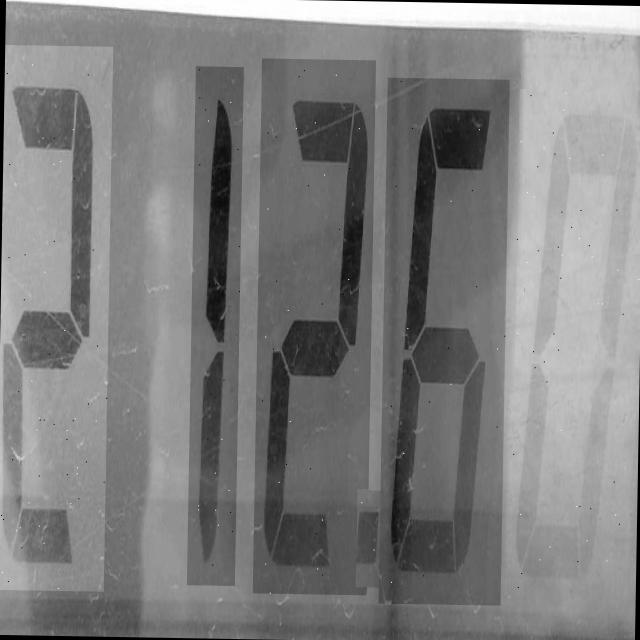.: (355, 491, 380, 588)
0: (510, 88, 640, 619)
1: (186, 65, 244, 586)
2: (252, 59, 376, 596), (0, 44, 112, 591)
6: (378, 78, 509, 606)
